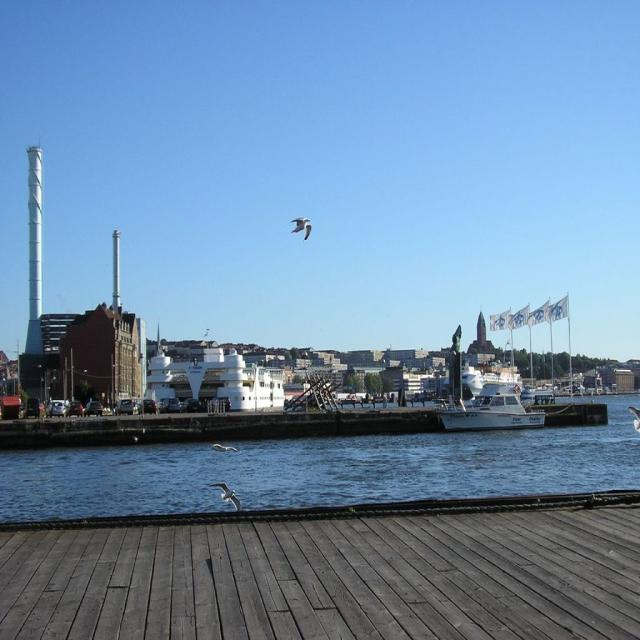Boat: (452, 368, 541, 427)
